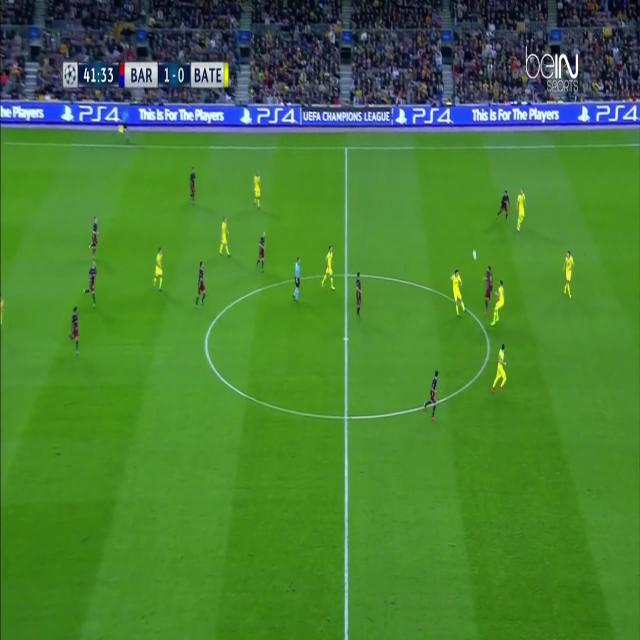Ball: (468, 245, 481, 265)
Player: (488, 340, 512, 398), (422, 366, 442, 425), (448, 265, 468, 322), (318, 242, 338, 295), (64, 303, 83, 358), (490, 276, 507, 336), (81, 258, 100, 310), (216, 213, 234, 262), (150, 244, 166, 294), (193, 259, 208, 312), (562, 247, 576, 302), (253, 228, 269, 276), (86, 212, 101, 263), (514, 187, 528, 235), (483, 264, 495, 320), (352, 268, 364, 322), (495, 187, 512, 223), (251, 168, 264, 215), (187, 165, 200, 210)
Referee: (290, 250, 303, 304), (117, 102, 133, 145)
